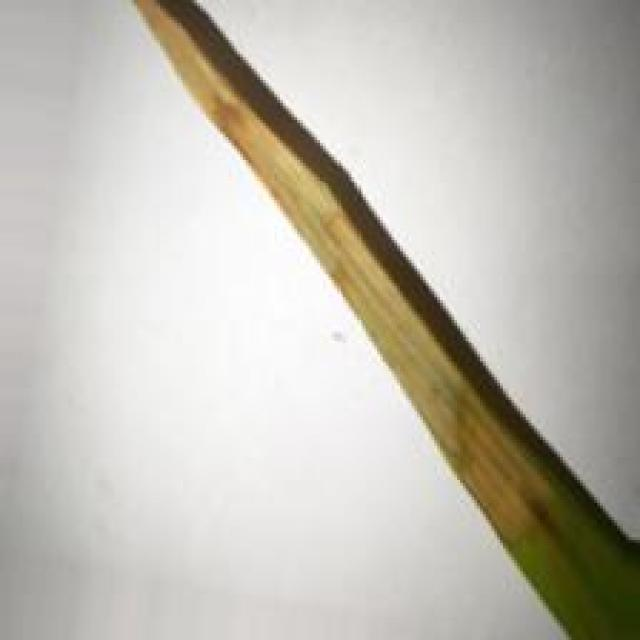Leaf_Scald: (123, 0, 558, 542)
